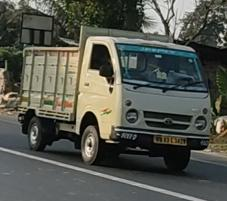Truck: (19, 21, 213, 174)
